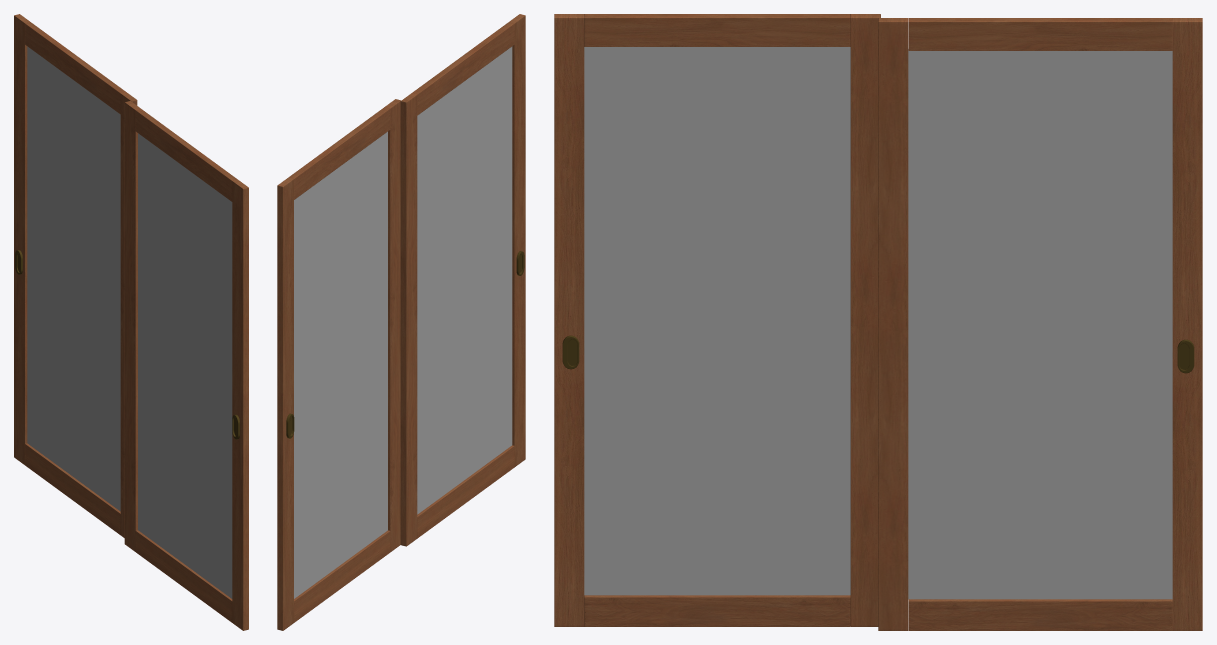
The model's file is yushidemen.FBX.
The picture shows the model from 3 angles, left to right: view 1: azimuth 30°, elevation 25°; view 2: azimuth 150°, elevation 25°; view 3: azimuth 270°, elevation 25°; orthographic projection. The views are drawn at different scales.
Parts seen in each view (by area): view 1: AM109_027_01, AM109_027_02; view 2: AM109_027_01, AM109_027_02; view 3: AM109_027_01, AM109_027_02.
Part boxes in pixels (x1,y1,x2,y2): AM109_027_01: (124,101,248,630); AM109_027_02: (14,14,137,537); AM109_027_01: (400,14,525,546); AM109_027_02: (277,99,400,630); AM109_027_01: (554,14,880,626); AM109_027_02: (878,18,1202,630).
Size of the model in its own units: 8.42 by 224 by 216.
